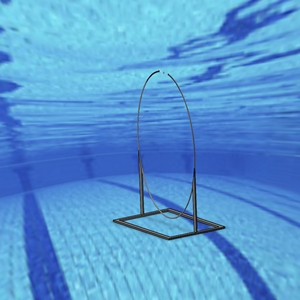circle: (111, 69, 225, 240)
